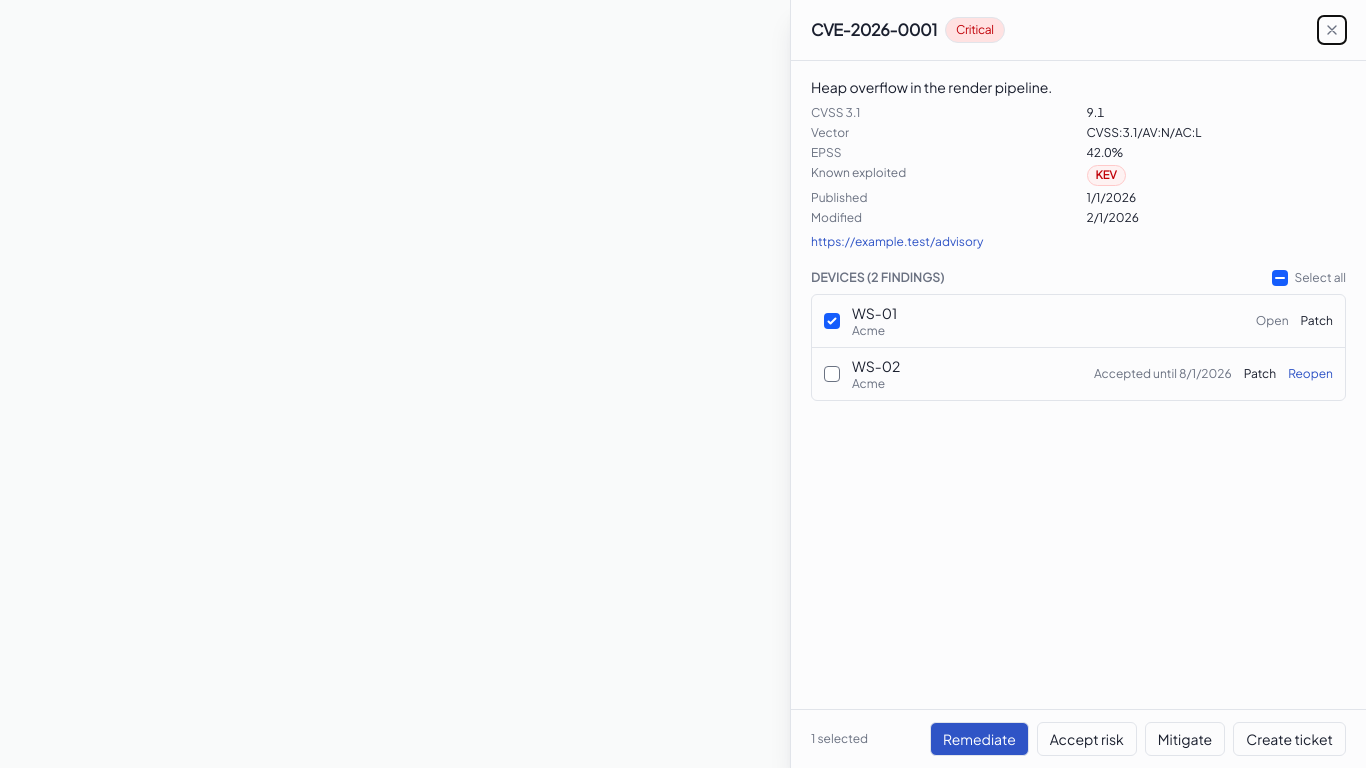
Test: CveDrawer › select-all toggles between every finding and none, with indeterminate for partial selection
Click the checkbox with test id "vuln-select-all" at x=1280, y=278, box [1272,270,1288,286]
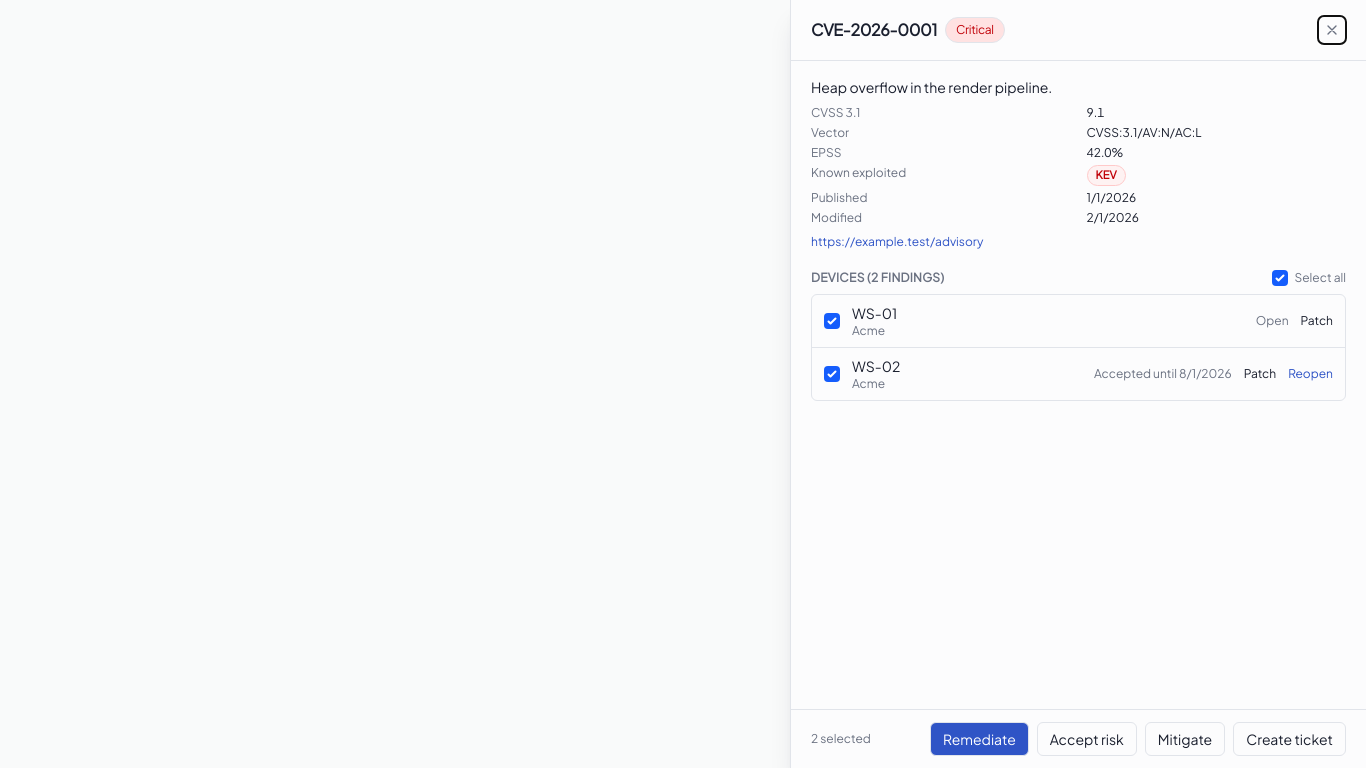
Expected: the checkbox with test id "vuln-select-all" is checked
Expected: the checkbox with test id "vuln-finding-check-dv-2" is checked, [824,366,840,382]
Click the checkbox with test id "vuln-select-all" at x=1280, y=278, box [1272,270,1288,286]
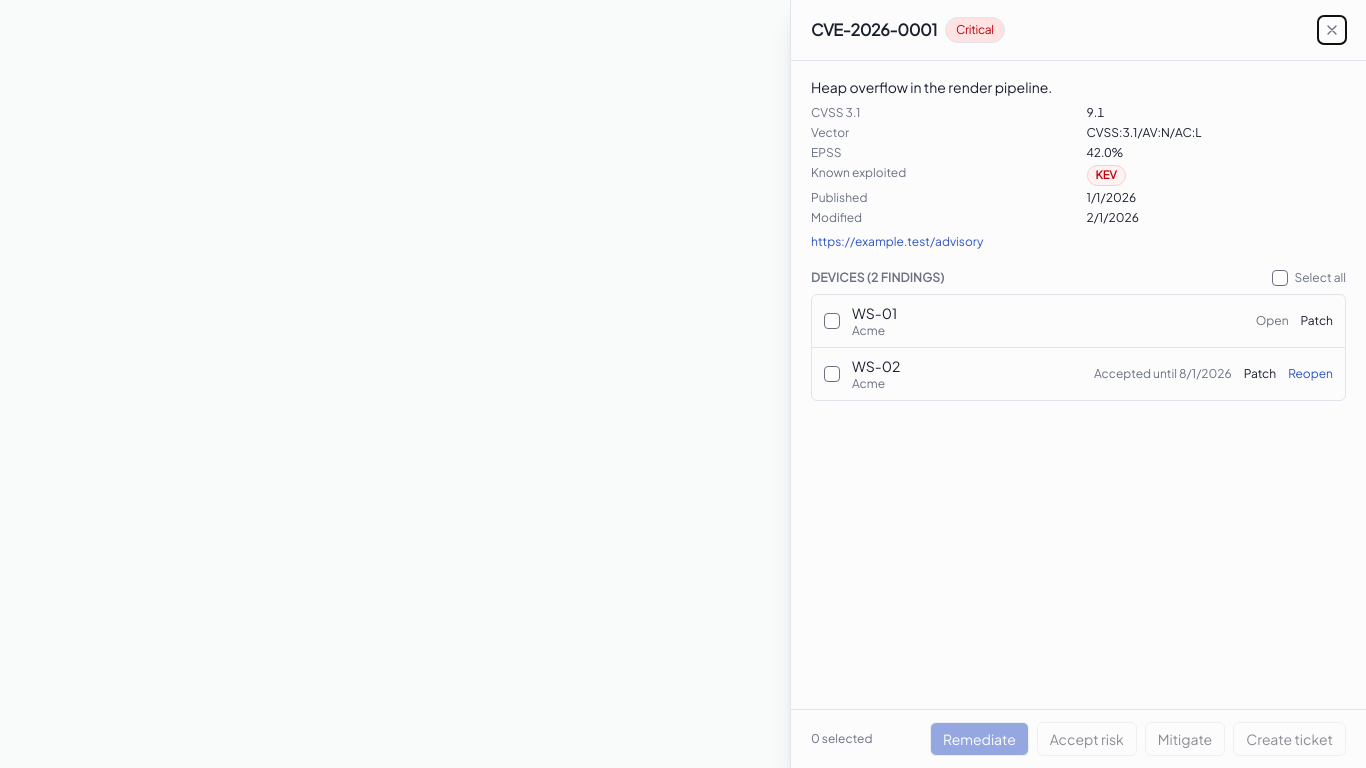
Expected: the checkbox with test id "vuln-finding-check-dv-1" is not checked, [824,313,840,329]
Expected: the checkbox with test id "vuln-finding-check-dv-2" is not checked, [824,366,840,382]
Expected: the button with test id "vuln-action-remediate" is disabled, [930,722,1029,756]
